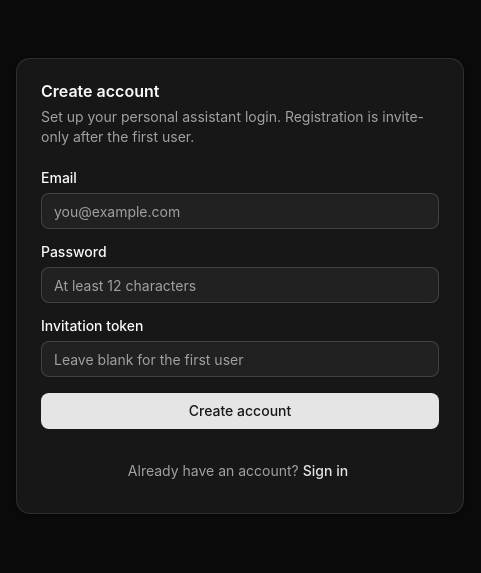
Scenario: Register › surfaces invite_required error from the backend via destructive Alert
The image size is (481, 573).
Type "stranger@example.com" into the field labelled "Email" at {"x": 240, "y": 211}, box [41,193,439,229]
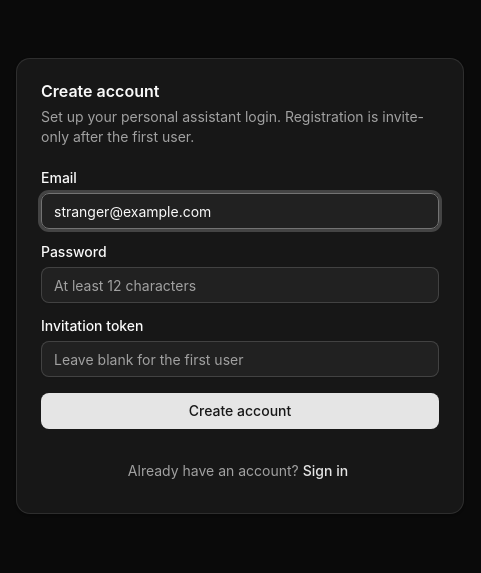
Type "hunter22-long-enough" into the password field labelled "Password" at {"x": 240, "y": 285}, box [41,267,439,303]
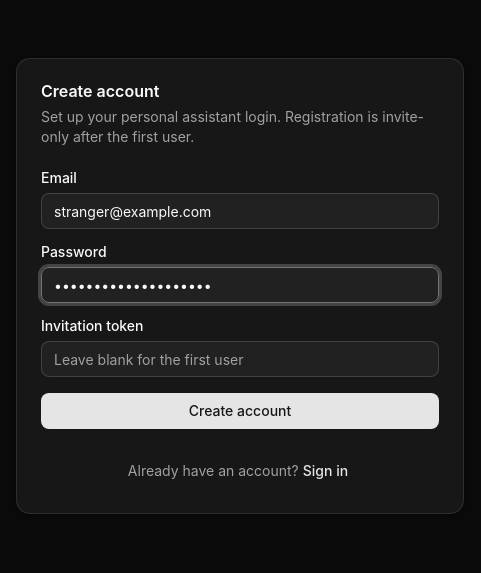
Click the button "Create account" at {"x": 240, "y": 411}, box [41,393,439,429]
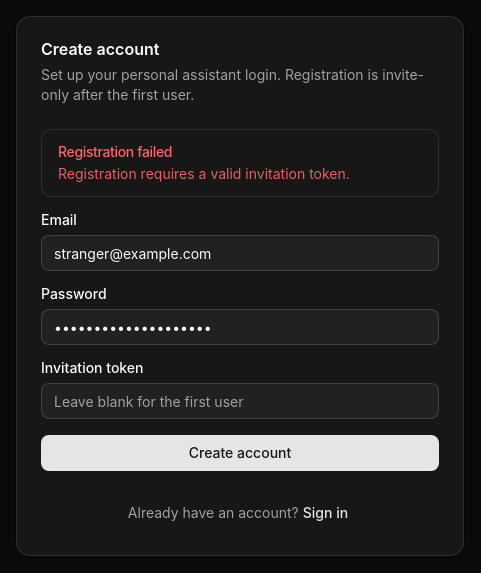
expect the message shows "Registration failed": met, box [58,143,172,160]
expect the message shows "requires a valid invitation": met, box [58,165,350,182]
